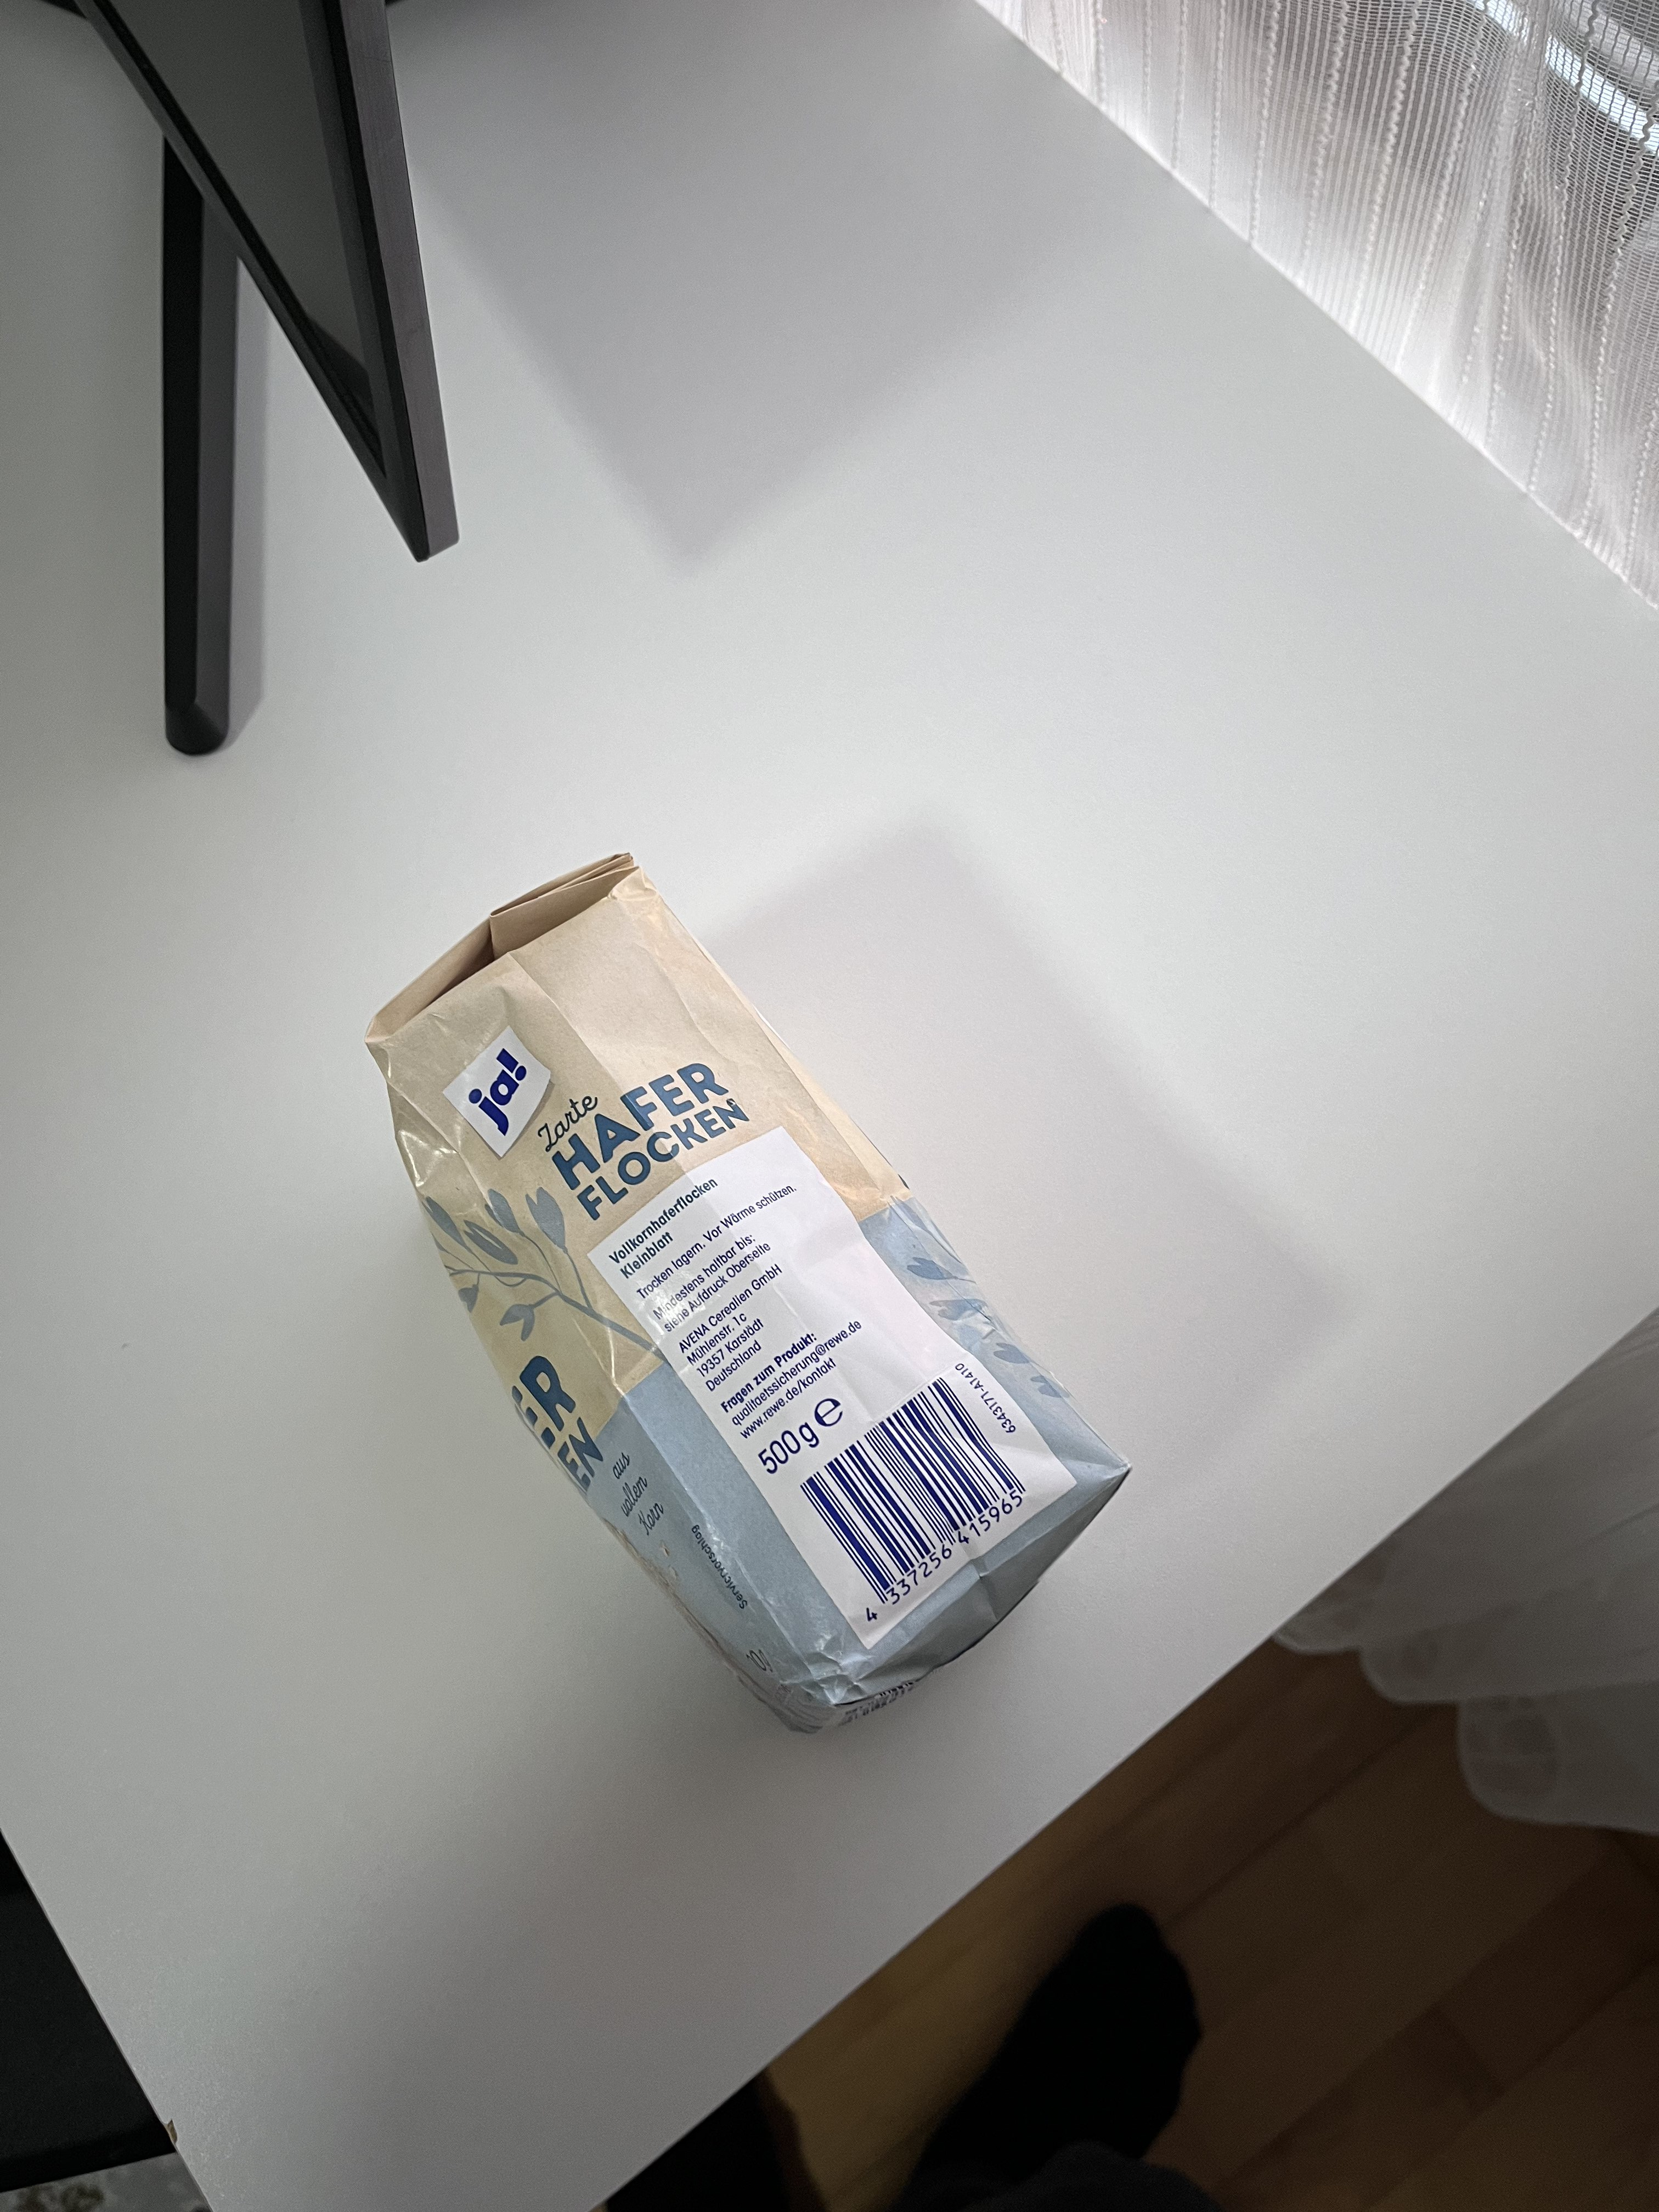haferflocken_ja: (361, 855, 1134, 1735)
